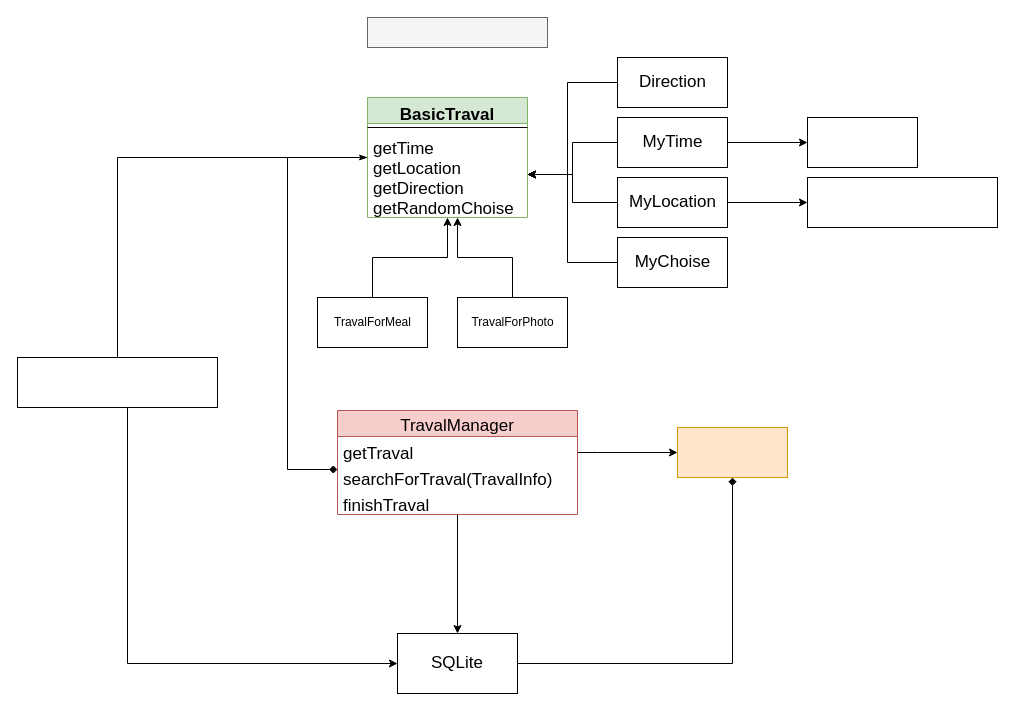
The diagram is 1015 pixels wide and 711 high, and some of its shapes have lost their labels. The centre of each missing label's shape, as x and y in pixels:
Application: the point at 732,452
LocationFromMapApi: the point at 902,202
Storage of trip data: the point at 457,32
SystemTime: the point at 862,142
ValueConversionUtil: the point at 117,382
